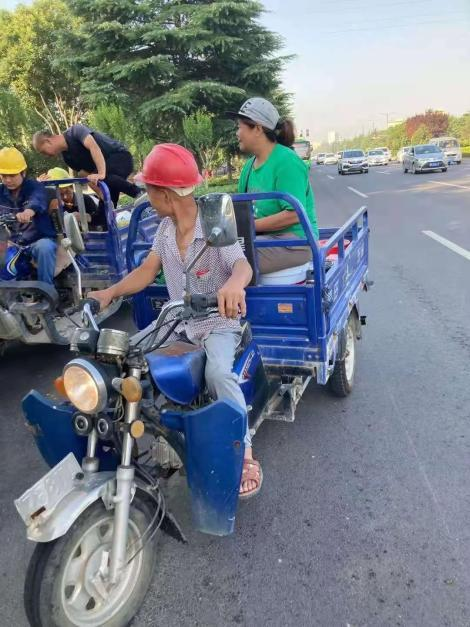driver: (131, 140, 265, 498), (2, 144, 34, 323)
overloading: (139, 96, 351, 550), (3, 122, 126, 353)
passenger: (222, 95, 354, 274), (32, 125, 126, 163), (41, 160, 90, 227)
